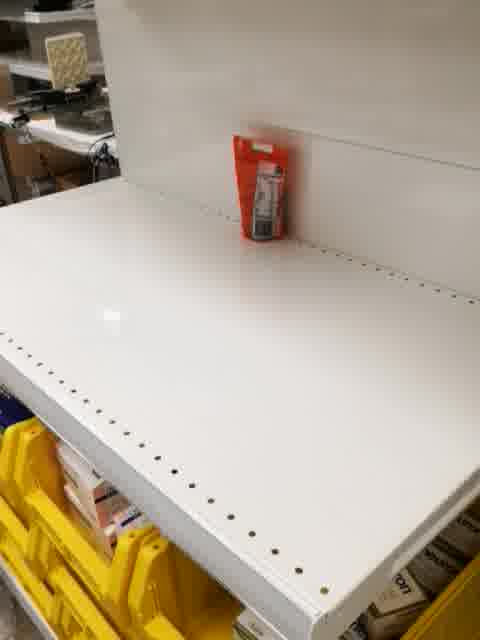whitechia: (232, 133, 292, 246)
